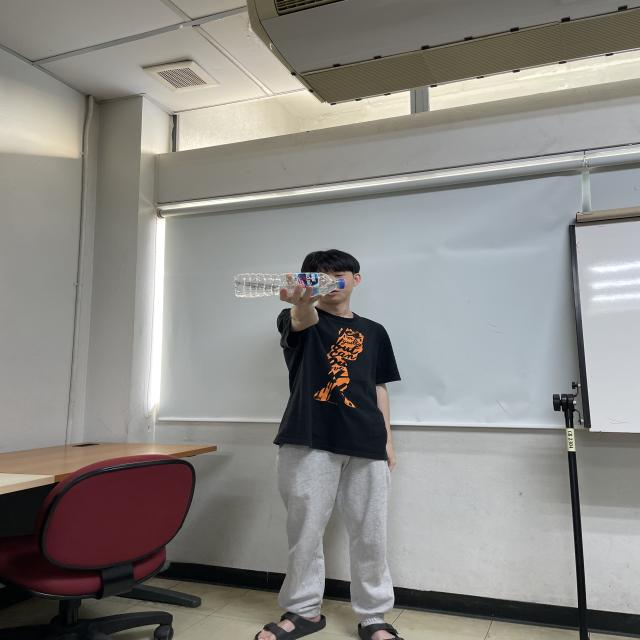bottle: (231, 271, 346, 297)
